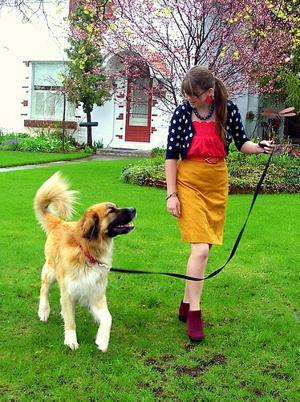person: (166, 68, 271, 339)
